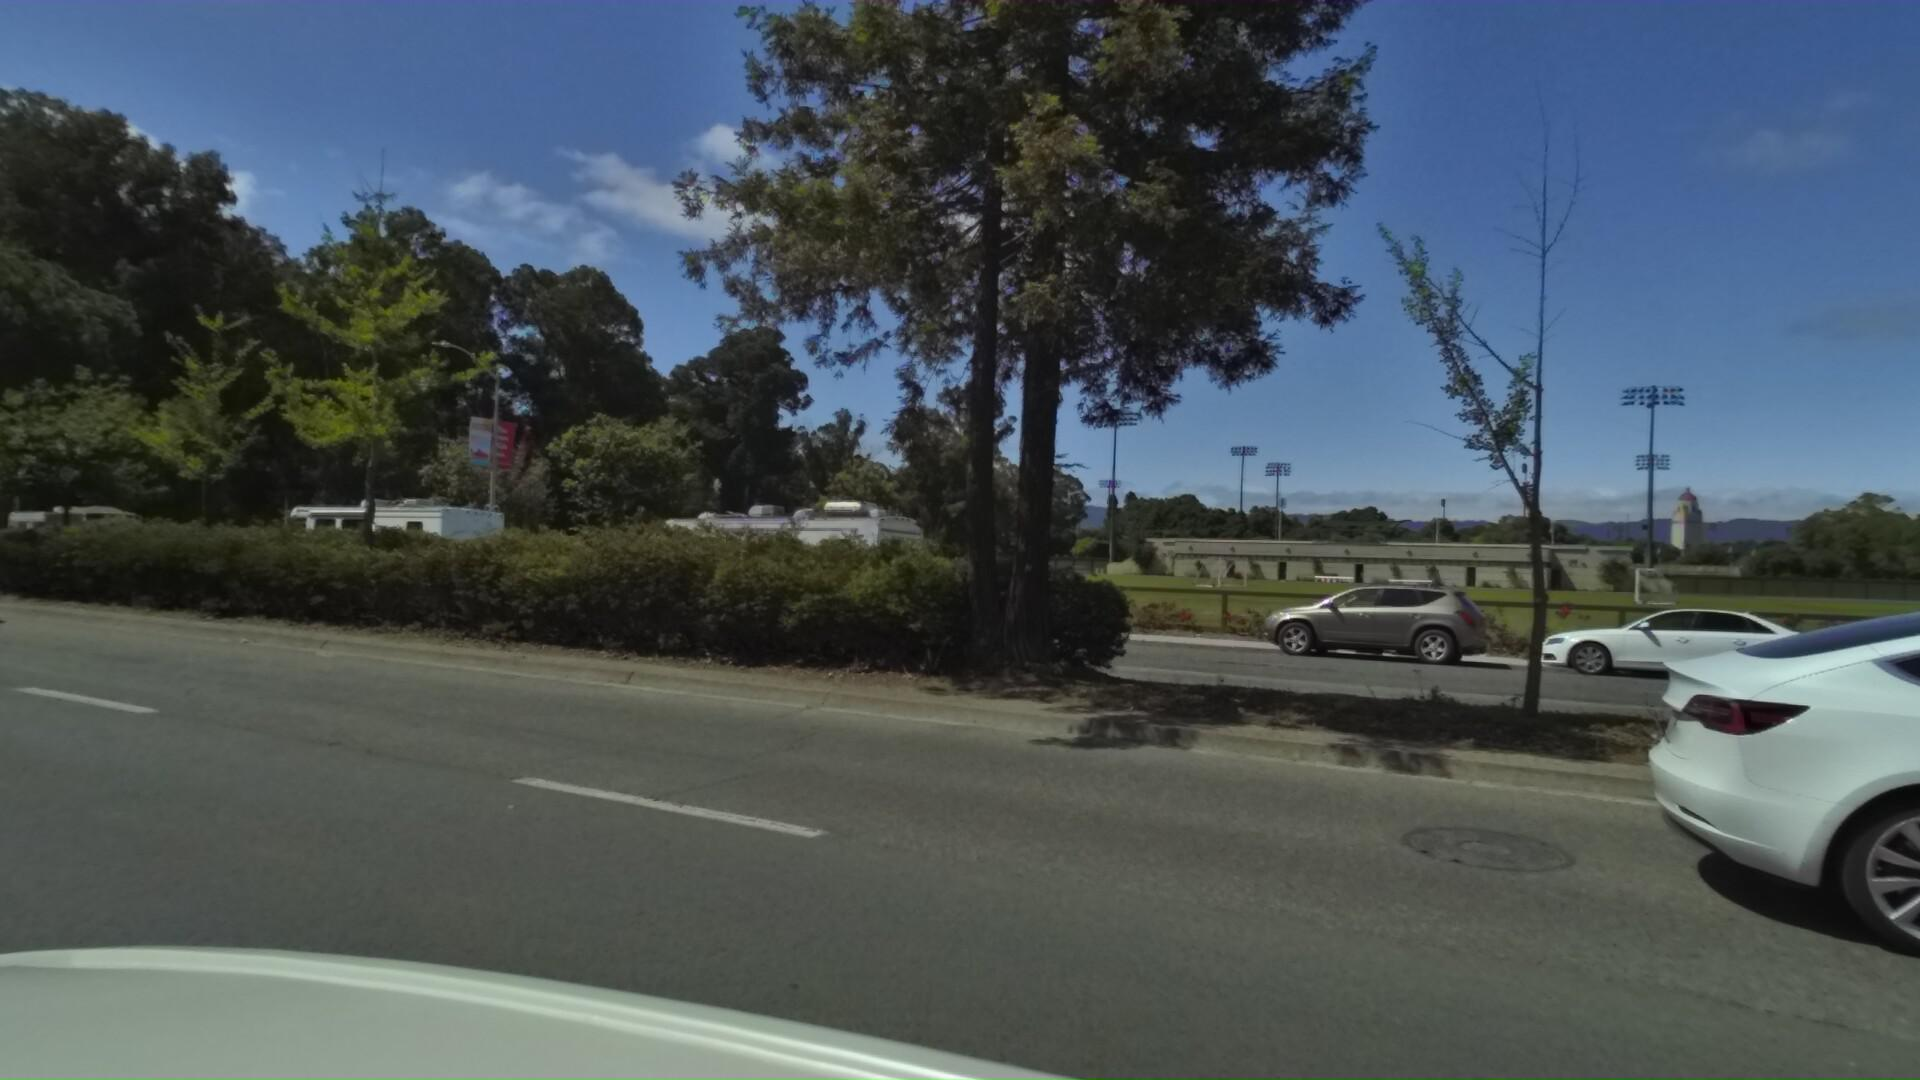car: (1665, 549, 1920, 1080), (1494, 588, 1800, 694), (1211, 572, 1466, 674), (874, 572, 1073, 645), (0, 506, 1, 636)
other_vehicle: (607, 491, 916, 636), (262, 495, 504, 603), (0, 504, 146, 579)
